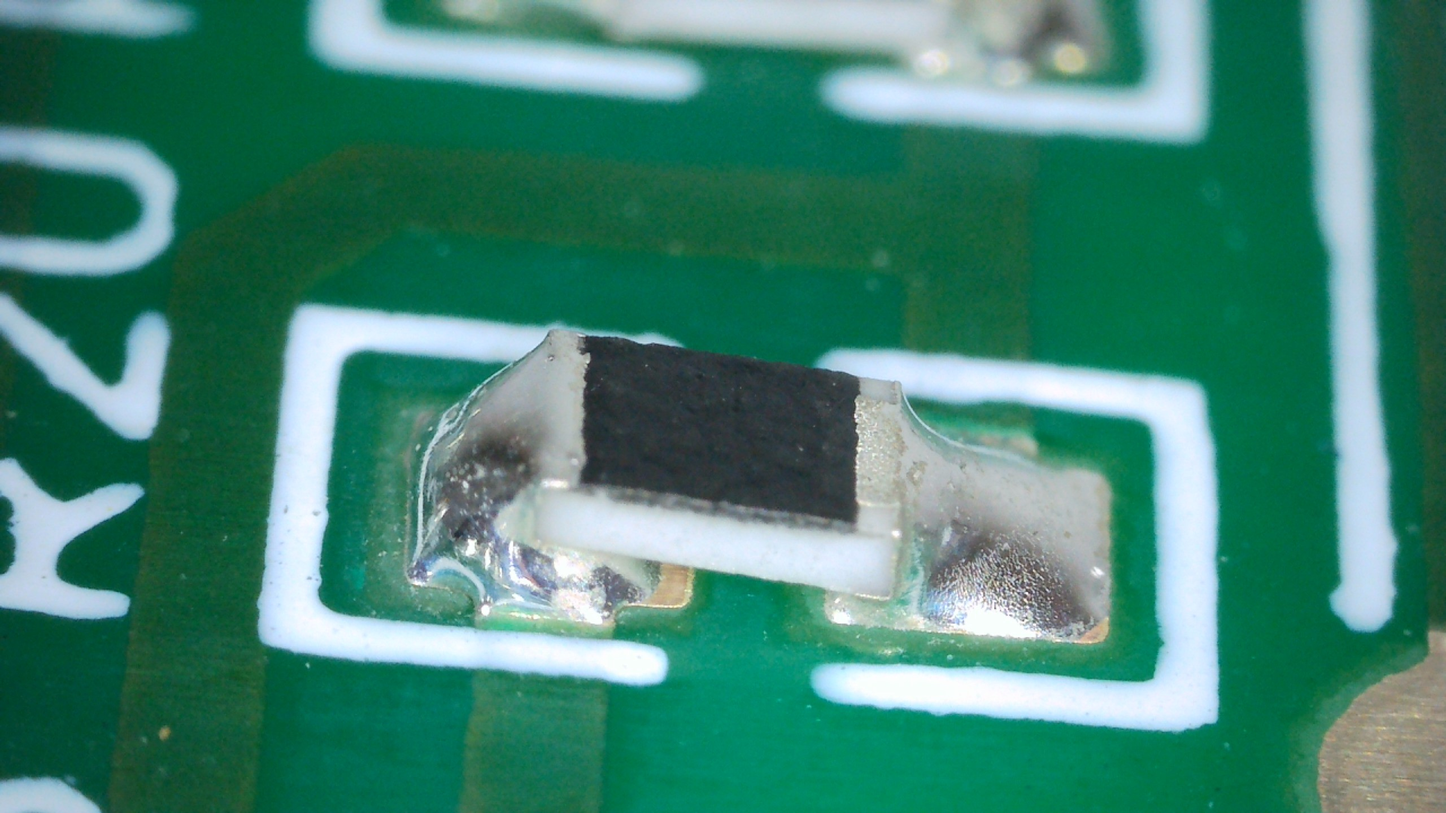NG: (410, 332, 660, 624)
OK: (855, 378, 1112, 643)
